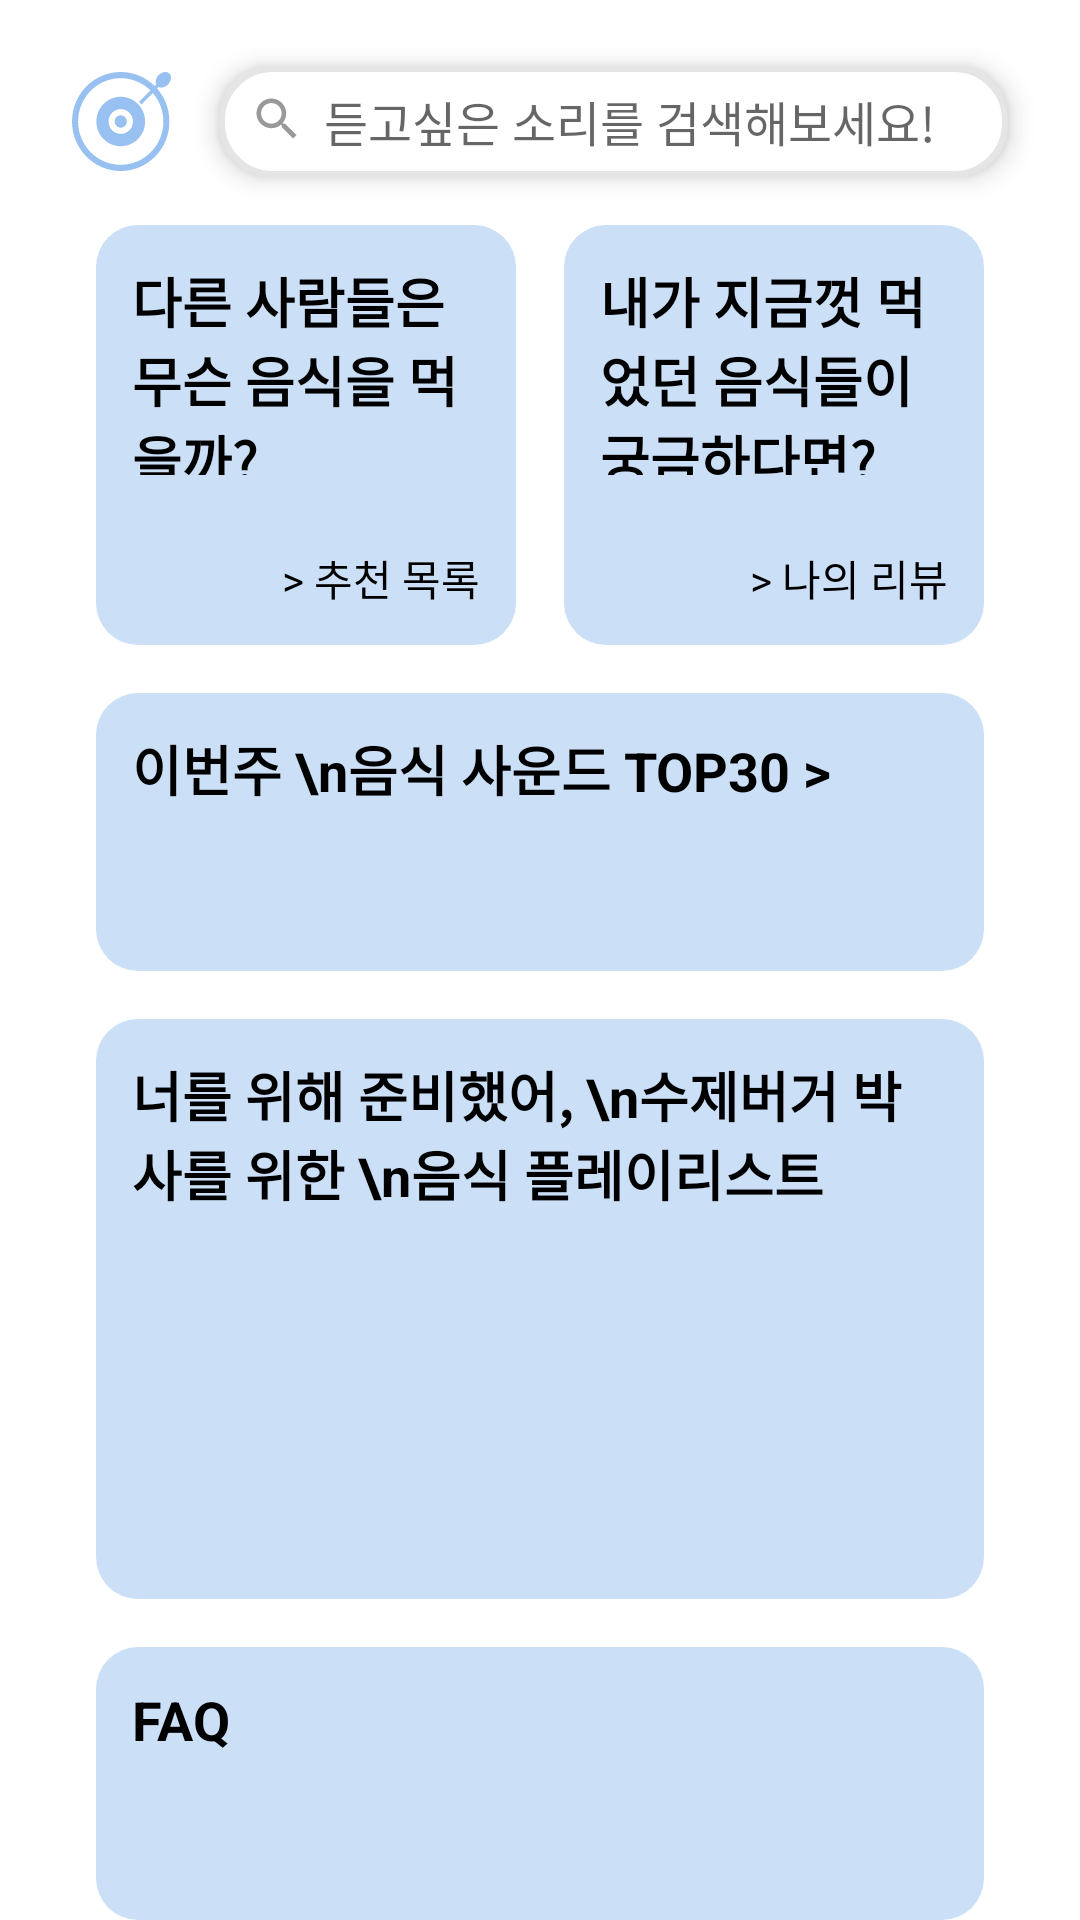

Named icons in this screenshot (1080x1920) and their centers, (x,y):
search: (276,118)
